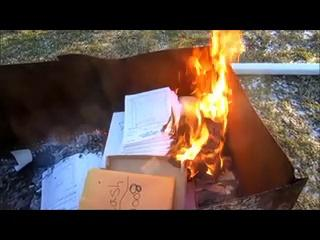Fire: (170, 28, 253, 170)
